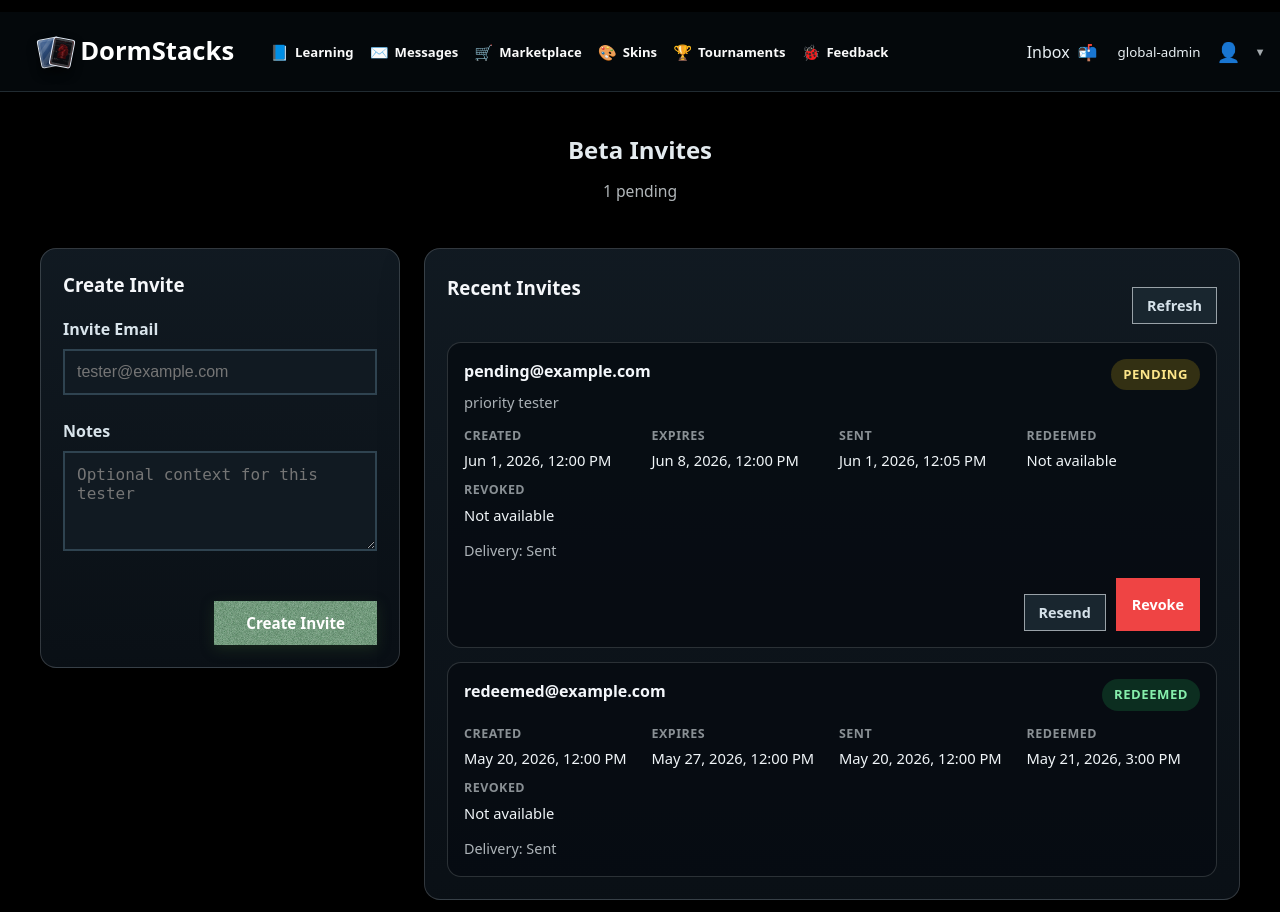
Scenario: DashboardPage beta invite admin panel › resends and revokes pending invites from the admin panel
Click the button "Resend" at (1065, 612), box [1024,594,1106,631]
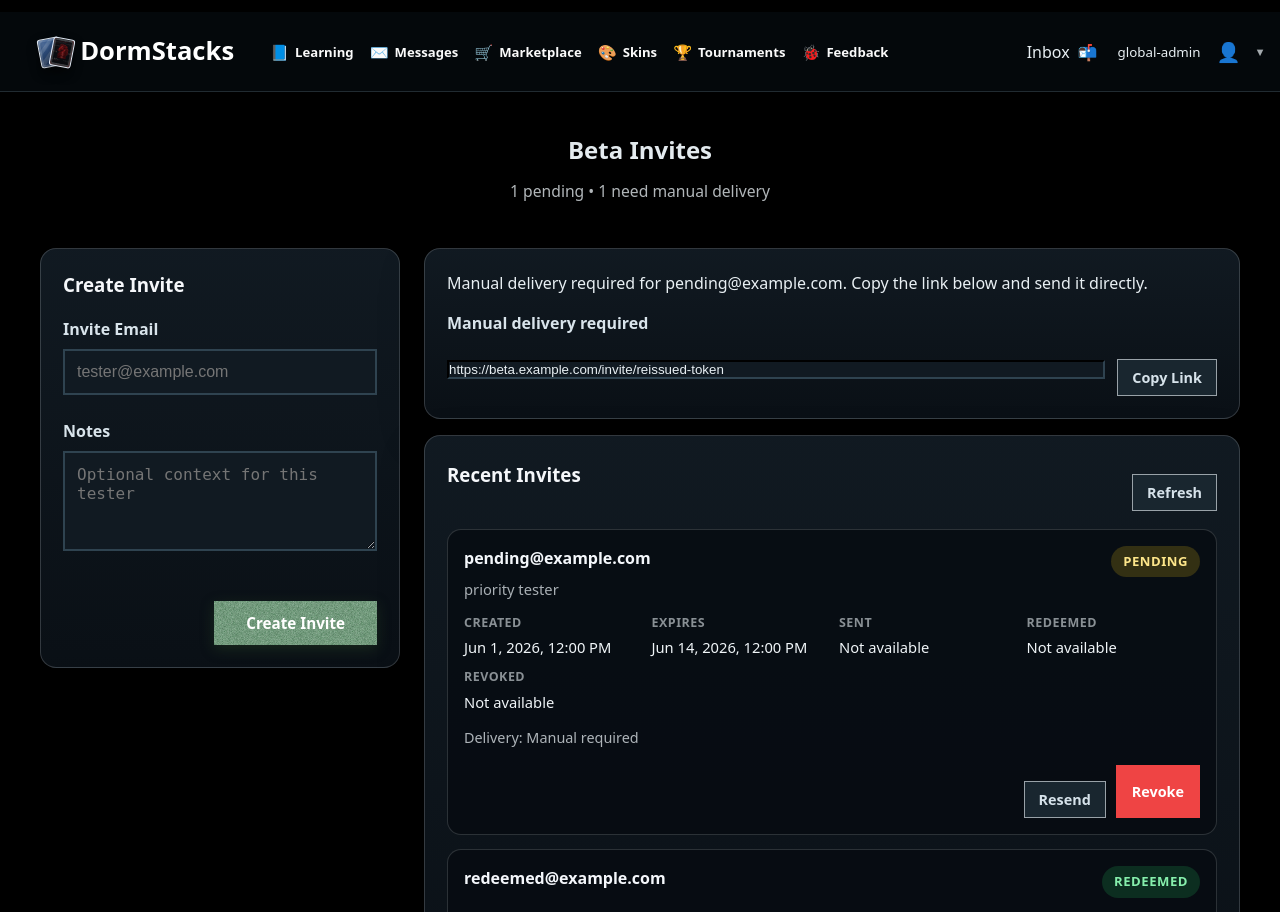
Result: the field showing "https://beta.example.com/invite/reissued-token" is shown at [447,360,1105,378]
Click the button with aria-label "revoke pending@example.com" at (1158, 791), box [1116,765,1200,818]
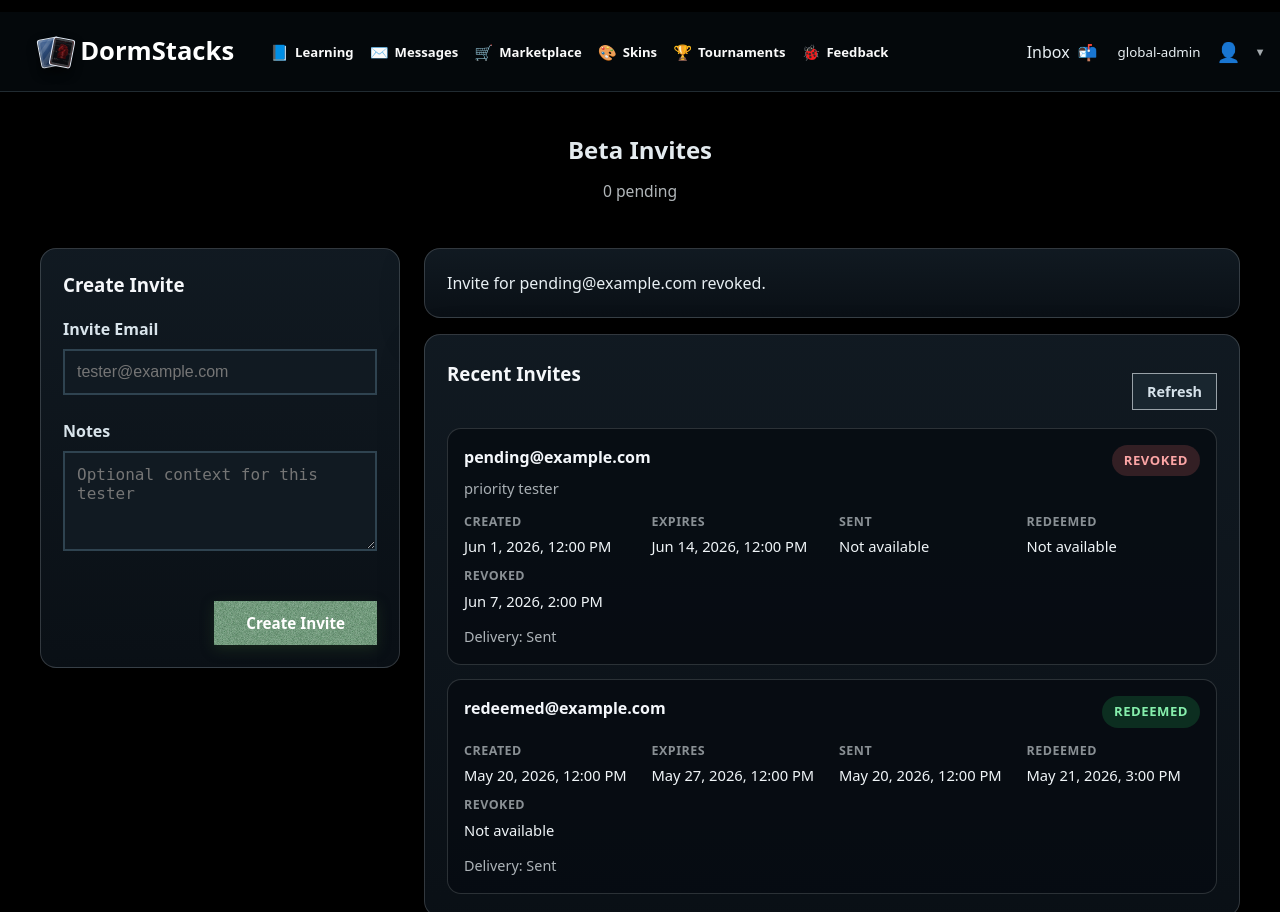
Result: the 1st text "Revoked" is shown at [1112,444,1200,476]
